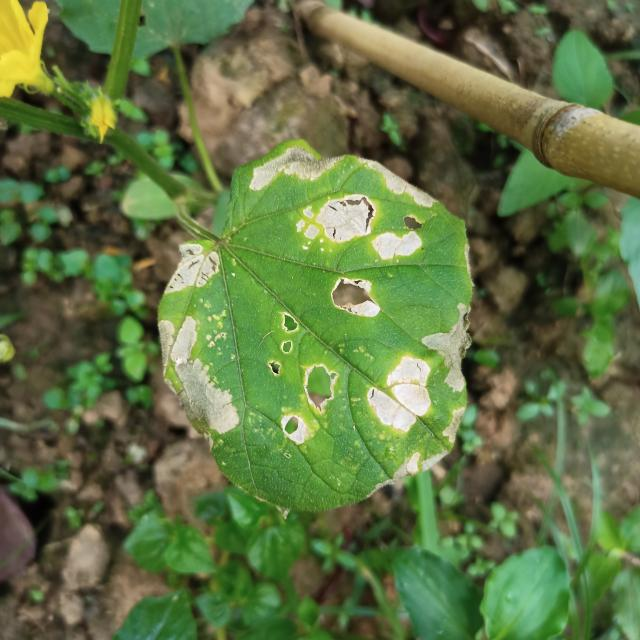disease_cucumber: (303, 266, 484, 495), (152, 238, 306, 456), (245, 140, 468, 268)
